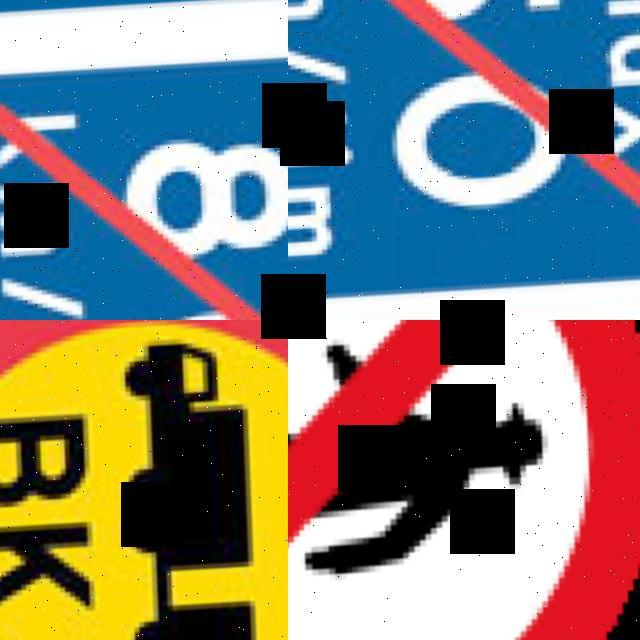103: (288, 0, 640, 320)
15: (0, 320, 288, 640)
No entry for pedestrians: (288, 320, 640, 640)
end of the speed limit: (0, 0, 288, 320)
